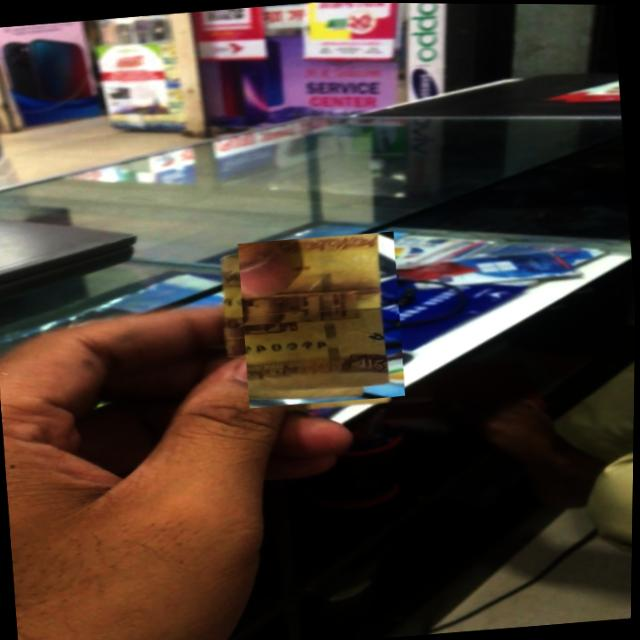Taka: (236, 229, 408, 408)
